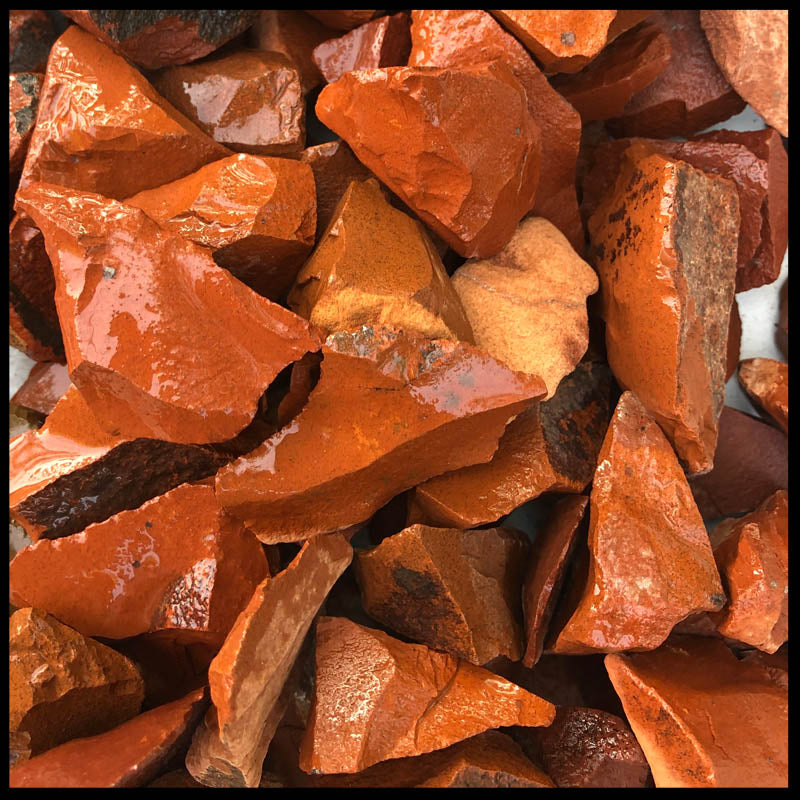Red_Jasper: (10, 13, 783, 767)
